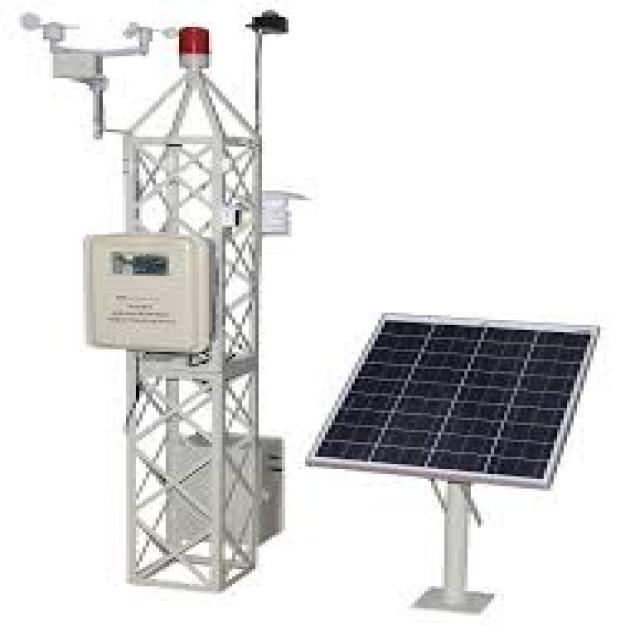no faulty: (307, 322, 604, 480)
